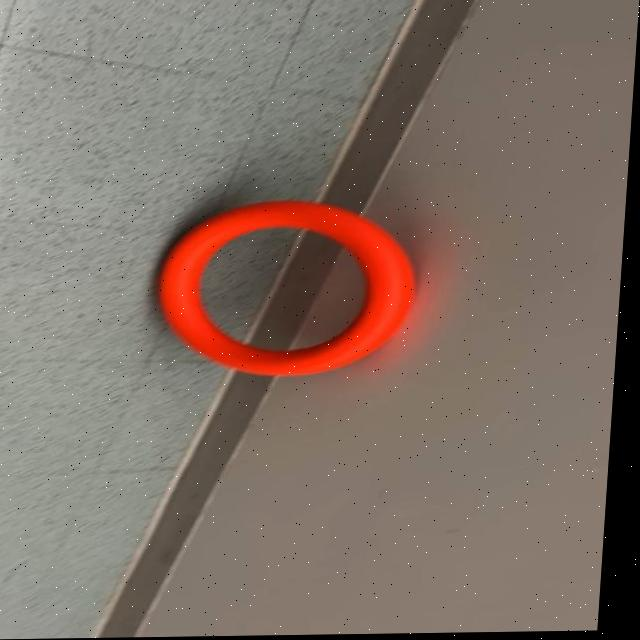note: (155, 198, 427, 380)
